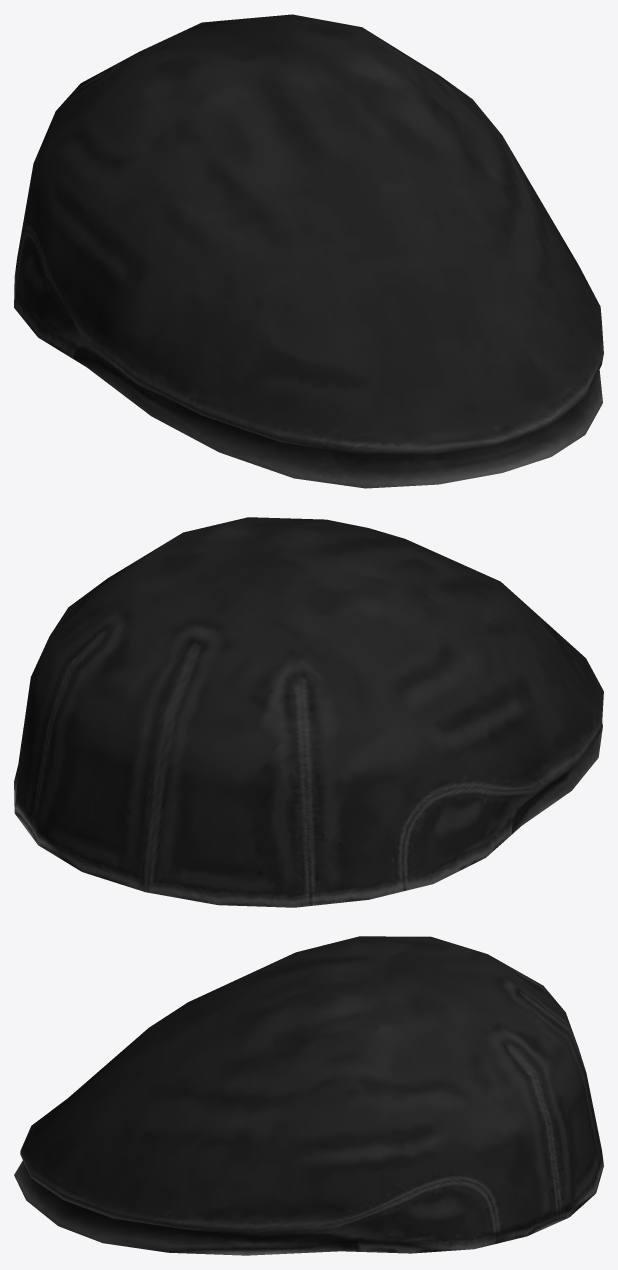
Rendered from leather-cap.glb.
3 views of the same model, one above another, from view 1: azimuth 30°, elevation 25°; view 2: azimuth 150°, elevation 25°; view 3: azimuth 270°, elevation 25° (orthographic). The views are drawn at different scales.
Visible parts, largest first — view 1: Cap_low_Cap_0; view 2: Cap_low_Cap_0; view 3: Cap_low_Cap_0.
Part boxes in pixels (left/top/right/bottom): Cap_low_Cap_0: left=14, top=14, right=603, bottom=488; Cap_low_Cap_0: left=14, top=517, right=603, bottom=907; Cap_low_Cap_0: left=14, top=936, right=603, bottom=1255.
Bounding box in the file's own units: 0.2064 × 0.1134 × 0.28.
1 material, 1 textured.
